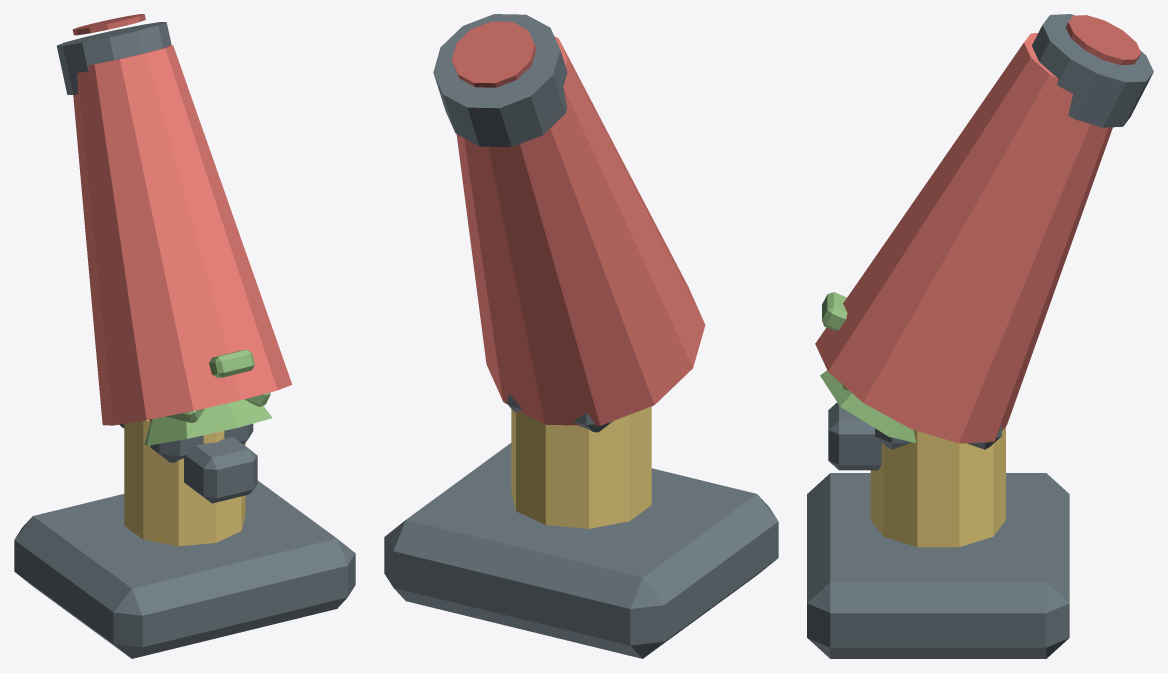
File: PepperCannon.glb
The picture shows the model from 3 angles, left to right: view 1: azimuth 30°, elevation 25°; view 2: azimuth 150°, elevation 25°; view 3: azimuth 270°, elevation 25°; orthographic projection. The views are drawn at different scales.
Visible parts, largest first — view 1: ChiliBarrel, CannonBase, CannonPivot, CarryGrip, CannonMuzzle, ChiliStemCap, CannonSupport, ChiliLeaf_1, MuzzleInner; view 2: ChiliBarrel, CannonBase, CannonPivot, CannonMuzzle, MuzzleInner; view 3: ChiliBarrel, CannonBase, CannonPivot, CannonMuzzle, CarryGrip, MuzzleInner, ChiliStemCap, ChiliLeaf_1, CannonSupport.
Part boxes in pixels (box(x1,y1,x2,y2)): ChiliBarrel: box(73, 45, 292, 425); CannonBase: box(14, 480, 355, 658); CannonPivot: box(124, 420, 245, 546); CarryGrip: box(184, 436, 257, 503); CannonMuzzle: box(57, 22, 171, 94); ChiliStemCap: box(144, 399, 272, 445); CannonSupport: box(119, 417, 253, 462); ChiliLeaf_1: box(209, 349, 254, 377); MuzzleInner: box(72, 14, 145, 35); ChiliBarrel: box(456, 36, 705, 425); CannonBase: box(384, 443, 778, 658); CannonPivot: box(511, 406, 651, 528); CannonMuzzle: box(433, 14, 567, 146); MuzzleInner: box(451, 21, 536, 87); ChiliBarrel: box(815, 33, 1112, 443); CannonBase: box(807, 473, 1069, 658); CannonPivot: box(870, 427, 1005, 547); CannonMuzzle: box(1032, 14, 1153, 127); CarryGrip: box(828, 402, 881, 470); MuzzleInner: box(1066, 15, 1140, 65); ChiliStemCap: box(820, 370, 916, 442); ChiliLeaf_1: box(822, 292, 847, 330); CannonSupport: box(875, 424, 1001, 449).
Size of the model in its own units: 0.72 by 1.52 by 0.8189.
